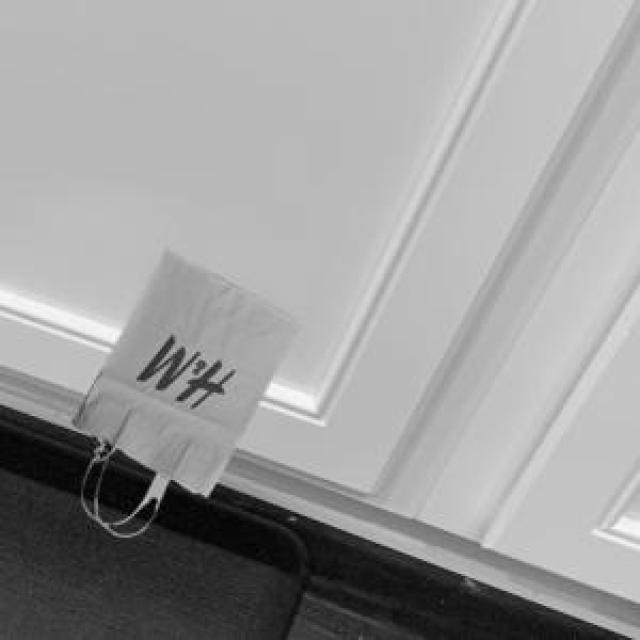paper: (68, 245, 297, 504)
